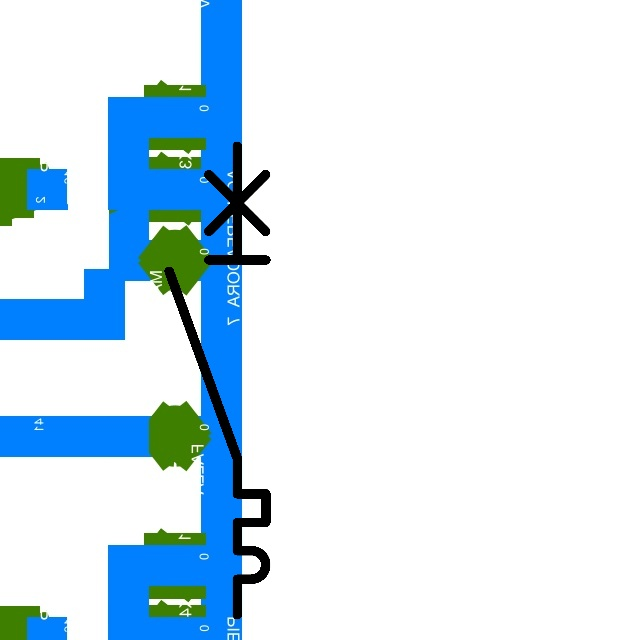interruptor_termomagnetico: (157, 134, 278, 627)
